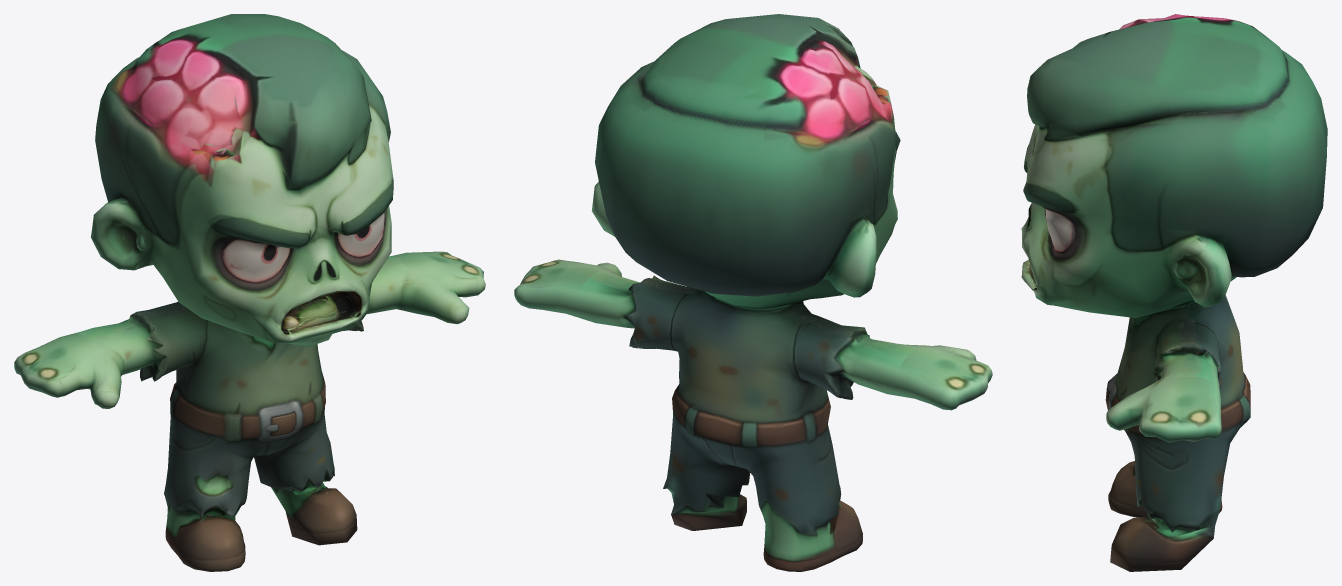
The model's file is Meshy_AI_Zombie_1215182526_texture.fbx.
3 views of the same model, side by side, from view 1: azimuth 30°, elevation 25°; view 2: azimuth 150°, elevation 25°; view 3: azimuth 270°, elevation 25° (orthographic).
Visible parts, largest first — view 1: input; view 2: input; view 3: input.
Boxes of the visible parts, bbox=[...] form: input: bbox=[14, 14, 485, 571]; input: bbox=[514, 14, 992, 571]; input: bbox=[1021, 14, 1327, 571].
Bounding box in the file's own units: 183 × 191 × 107.
1 material, 1 textured.
